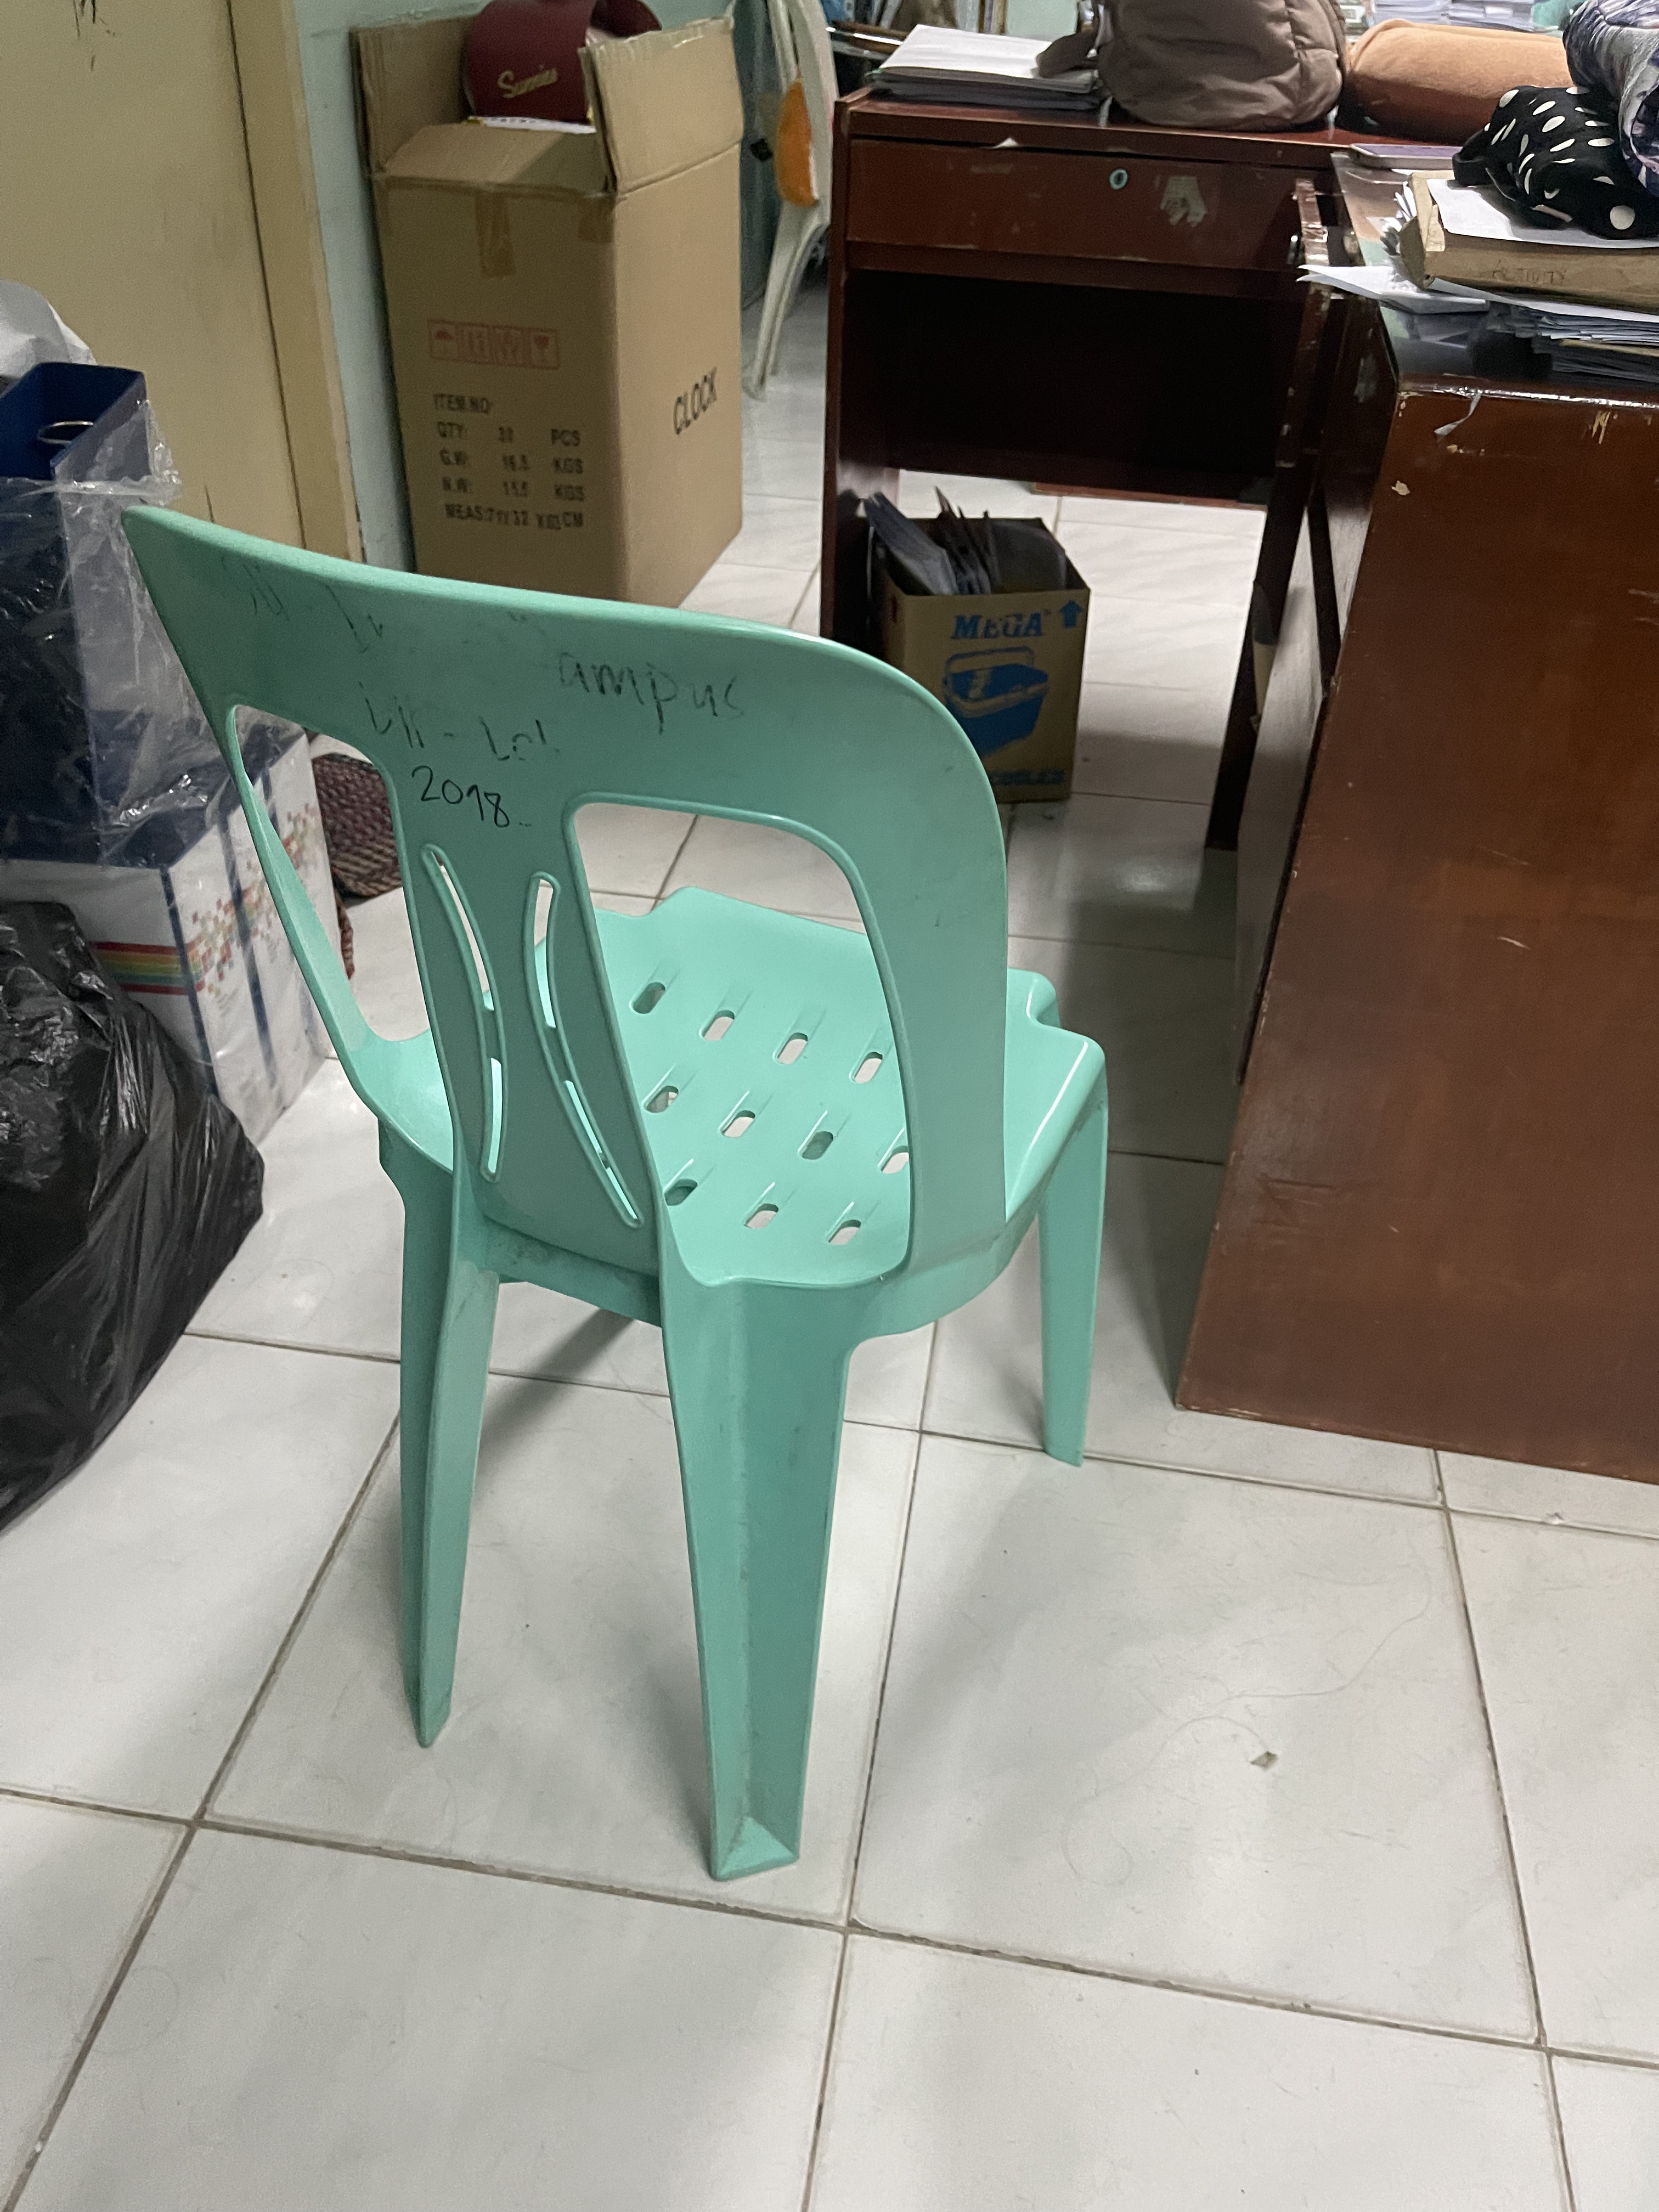chair2: (106, 479, 1124, 1900)
